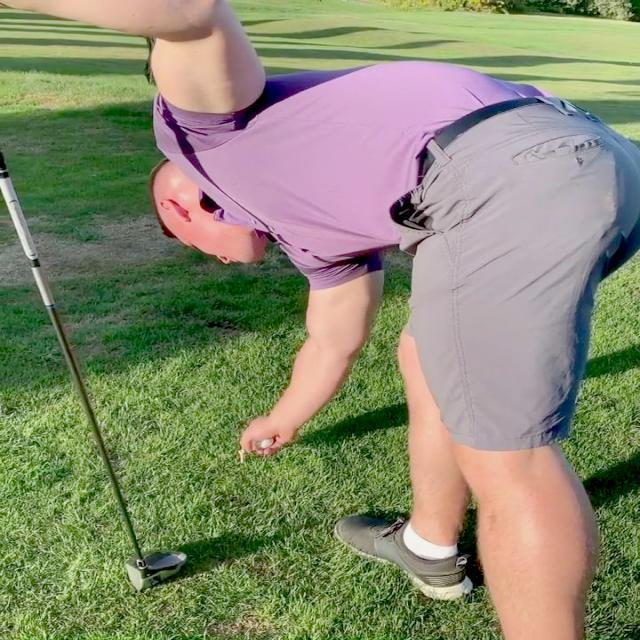ClubHead: (127, 550, 188, 592)
GolfBall: (252, 436, 276, 451)
